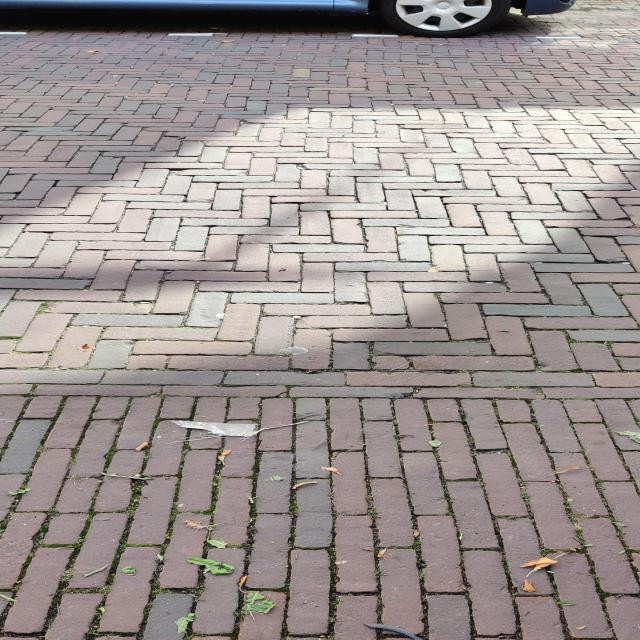litter: (167, 421, 260, 437)
